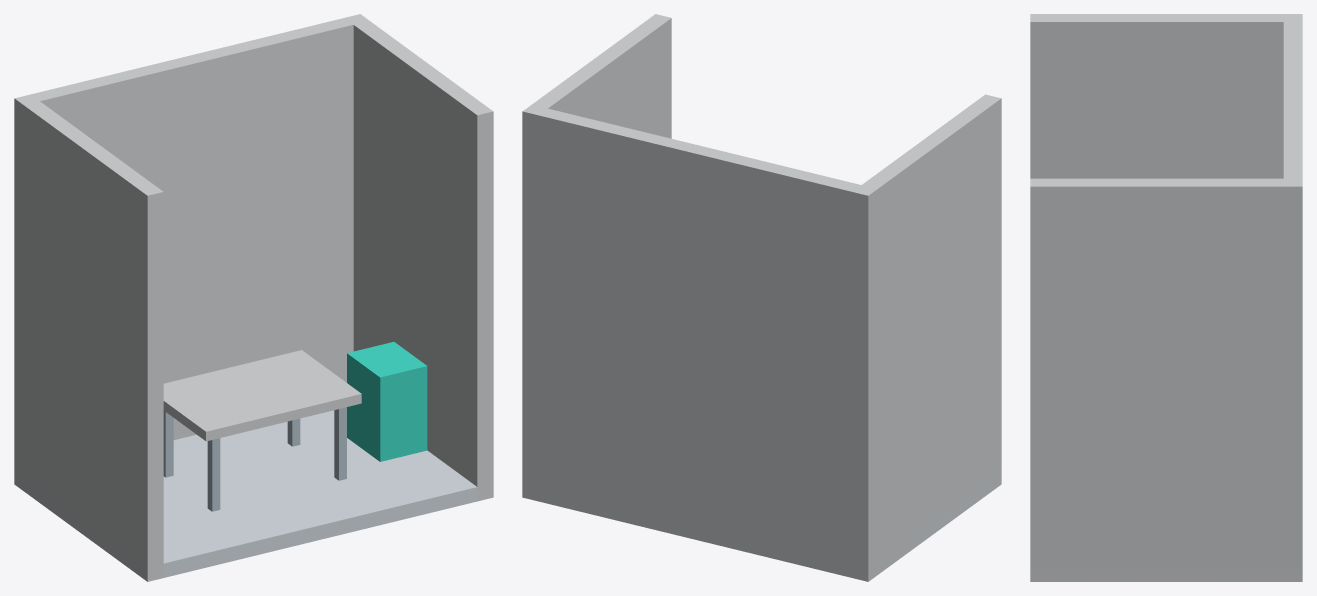
3 views of the same model, side by side, from view 1: azimuth 30°, elevation 25°; view 2: azimuth 150°, elevation 25°; view 3: azimuth 270°, elevation 25° (orthographic). The views are drawn at different scales.
Visible parts, largest first — view 1: Exhibition Booth Concept; view 2: Exhibition Booth Concept; view 3: Exhibition Booth Concept.
Part boxes in pixels (x1,y1,x2,y2): Exhibition Booth Concept: [14, 14, 493, 581]; Exhibition Booth Concept: [522, 14, 1001, 581]; Exhibition Booth Concept: [1030, 14, 1302, 581].
Size of the model in its own units: 3 by 3.2 by 2.
